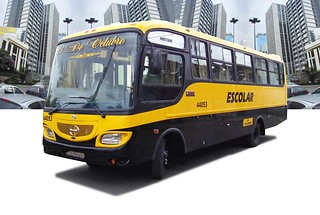bus: (42, 19, 287, 180)
